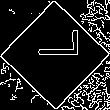L_W: (29, 39, 81, 71)
